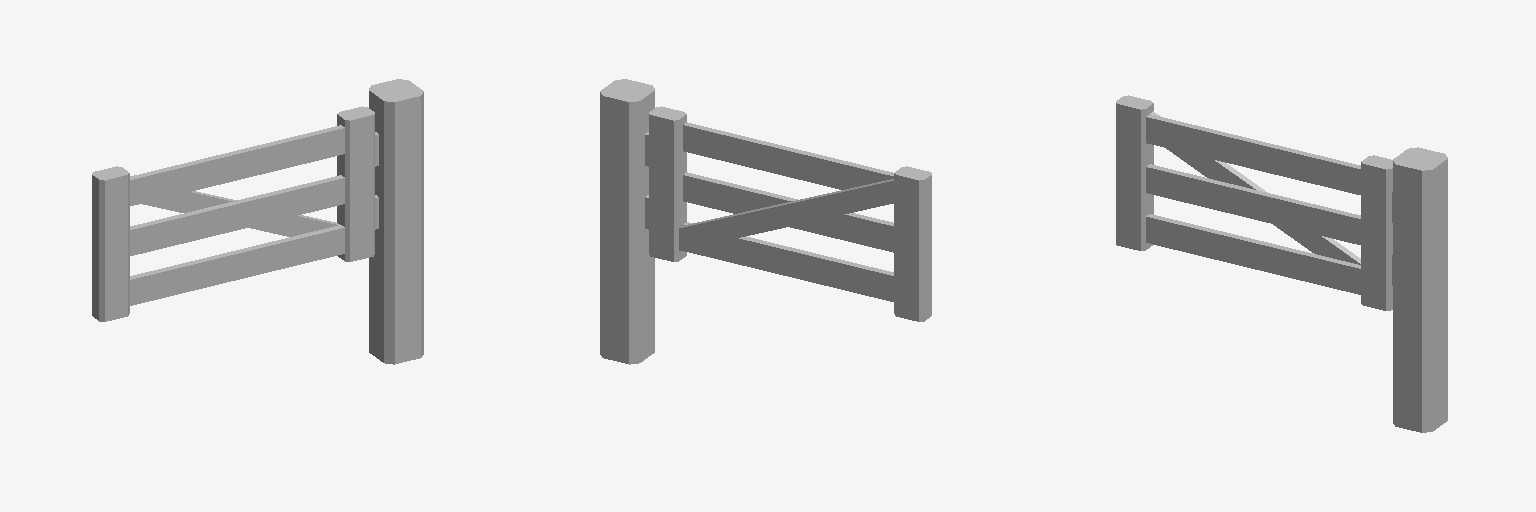
The model's file is Prop_Decorative_Fence_Gate_1.obj.
3 renders of one model, left to right at view 1: azimuth 30°, elevation 25°; view 2: azimuth 150°, elevation 25°; view 3: azimuth 330°, elevation 25°, orthographic.
Parts seen in each view (by area): view 1: Fence_Gate_Rail, Fence_Gate_Post_Side, Fence_Gate_Side, Fence_Gate_Crossrail, Fence_Gate_Post_Top; view 2: Fence_Gate_Rail, Fence_Gate_Post_Side, Fence_Gate_Side, Fence_Gate_Crossrail, Fence_Gate_Post_Top; view 3: Fence_Gate_Rail, Fence_Gate_Post_Side, Fence_Gate_Side, Fence_Gate_Crossrail, Fence_Gate_Post_Top.
Boxes of the visible parts, x1=… form: Fence_Gate_Rail: x1=130, y1=125, x2=344, y2=305; Fence_Gate_Post_Side: x1=369, y1=91, x2=423, y2=364; Fence_Gate_Side: x1=92, y1=106, x2=374, y2=321; Fence_Gate_Crossrail: x1=143, y1=191, x2=339, y2=236; Fence_Gate_Post_Top: x1=369, y1=79, x2=423, y2=101; Fence_Gate_Rail: x1=683, y1=122, x2=893, y2=301; Fence_Gate_Post_Side: x1=600, y1=91, x2=654, y2=364; Fence_Gate_Side: x1=649, y1=106, x2=931, y2=321; Fence_Gate_Crossrail: x1=679, y1=179, x2=893, y2=250; Fence_Gate_Post_Top: x1=600, y1=79, x2=654, y2=101; Fence_Gate_Rail: x1=1146, y1=114, x2=1360, y2=294; Fence_Gate_Post_Side: x1=1393, y1=159, x2=1447, y2=432; Fence_Gate_Side: x1=1116, y1=95, x2=1392, y2=310; Fence_Gate_Crossrail: x1=1150, y1=111, x2=1360, y2=264; Fence_Gate_Post_Top: x1=1393, y1=147, x2=1447, y2=170.
Bounding box in the file's own units: 1.6 × 1.25 × 0.2.